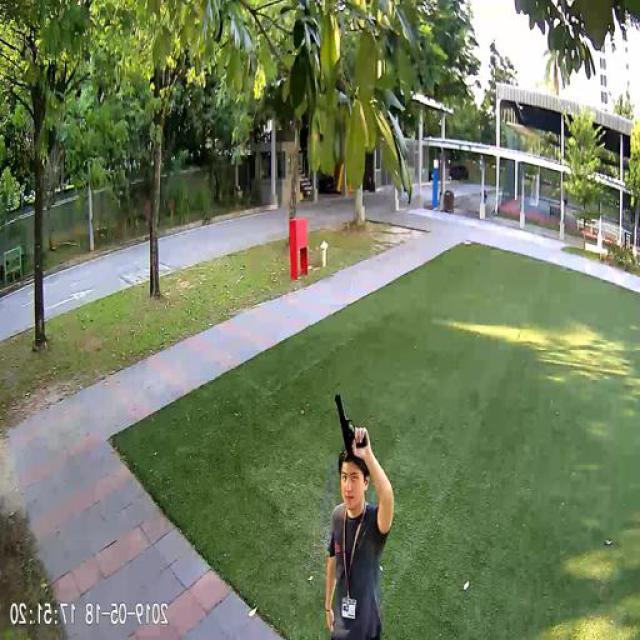Gun: (338, 389, 370, 450)
